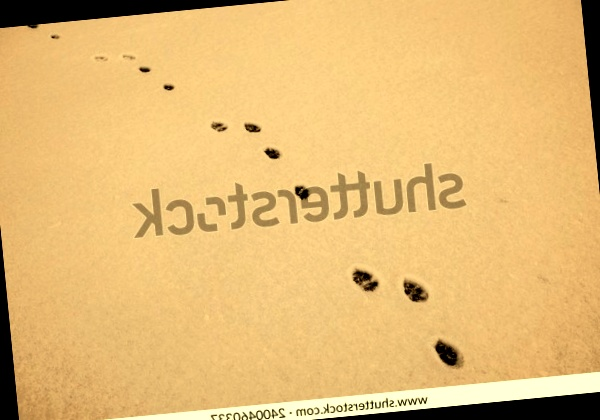lapin: (226, 265, 262, 305), (151, 343, 186, 383), (176, 279, 209, 317), (309, 139, 337, 164), (284, 181, 312, 204), (362, 112, 386, 132), (328, 114, 351, 134), (446, 33, 467, 49), (409, 67, 425, 82), (476, 33, 491, 47), (434, 47, 446, 64)
